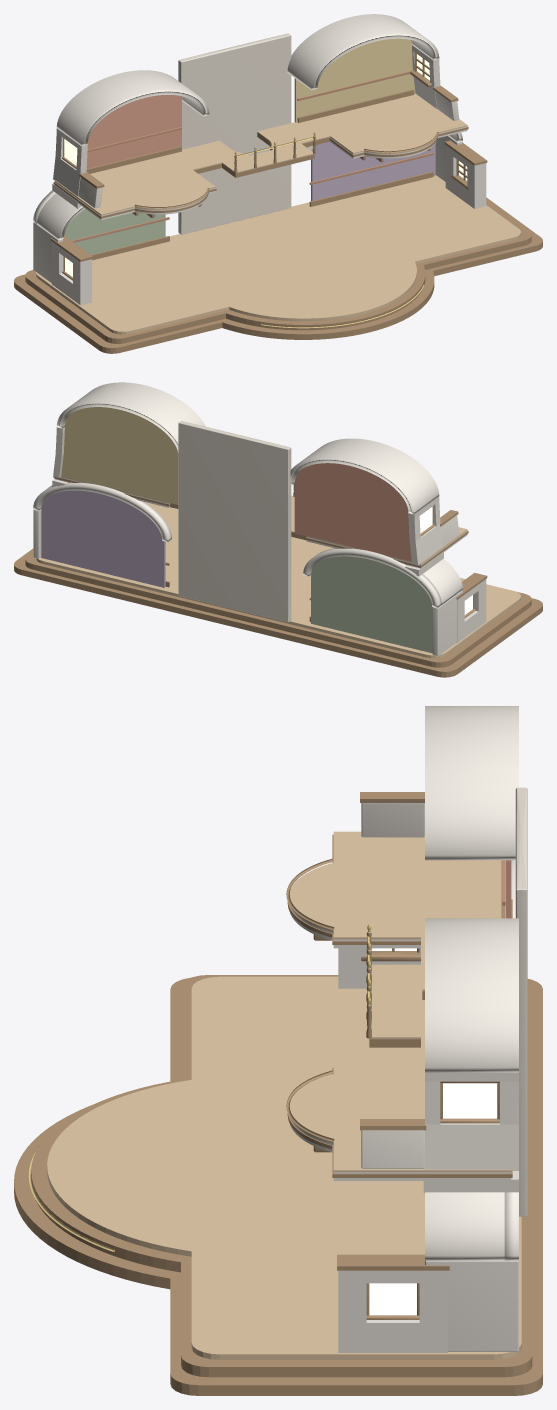
The model's file is workshop_shell.glb.
3 views of the same model, one above another, from view 1: azimuth 30°, elevation 25°; view 2: azimuth 150°, elevation 25°; view 3: azimuth 270°, elevation 25° (orthographic). The views are drawn at different scales.
Visible parts, largest first — view 1: Plinth_Base, Cutaway_Shell_1F, Studio_Themed_Walls, Floor_2F_Structure, Cutaway_Shell_2F, Window_Frames, WindowPane_Glow, Elevator_Landing_Front_Guard; view 2: Studio_Themed_Walls, Cutaway_Shell_1F, Plinth_Base, Cutaway_Shell_2F, Floor_2F_Structure, WindowPane_Glow; view 3: Plinth_Base, Cutaway_Shell_2F, Floor_2F_Structure, Cutaway_Shell_1F, WindowPane_Glow, Window_Frames.
Part boxes in pixels (left/top/right/bottom): Plinth_Base: left=14, top=175, right=542, bottom=353; Cutaway_Shell_1F: left=33, top=33, right=487, bottom=305; Studio_Themed_Walls: left=64, top=38, right=435, bottom=260; Floor_2F_Structure: left=53, top=93, right=468, bottom=220; Cutaway_Shell_2F: left=53, top=14, right=459, bottom=208; Window_Frames: left=62, top=51, right=468, bottom=280; WindowPane_Glow: left=64, top=54, right=467, bottom=276; Elevator_Landing_Front_Guard: left=234, top=132, right=315, bottom=173; Studio_Themed_Walls: left=41, top=407, right=432, bottom=653; Cutaway_Shell_1F: left=33, top=421, right=487, bottom=656; Plinth_Base: left=14, top=502, right=542, bottom=677; Cutaway_Shell_2F: left=53, top=382, right=459, bottom=565; Floor_2F_Structure: left=53, top=476, right=468, bottom=568; WindowPane_Glow: left=419, top=506, right=472, bottom=614; Plinth_Base: left=14, top=975, right=542, bottom=1395; Cutaway_Shell_2F: left=360, top=706, right=518, bottom=1170; Floor_2F_Structure: left=286, top=831, right=512, bottom=1180; Cutaway_Shell_1F: left=337, top=787, right=527, bottom=1352; WindowPane_Glow: left=369, top=948, right=497, bottom=1315; Window_Frames: left=361, top=948, right=499, bottom=1319.
Bounding box in the file's own units: 14.56 × 5.98 × 7.98.
